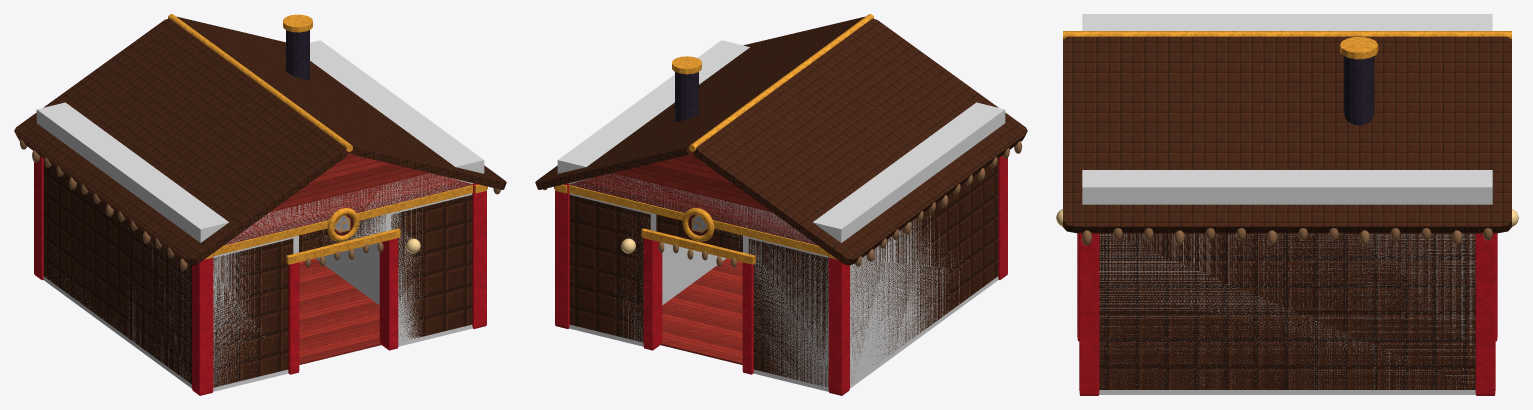
File: CHO_Shed.fbx
3 renders of one model, left to right at view 1: azimuth 30°, elevation 25°; view 2: azimuth 150°, elevation 25°; view 3: azimuth 270°, elevation 25°, orthographic. The views are drawn at different scales.
Parts seen in each view (by area): view 1: CHO_Shed, COL_Roof, COL_WallFrontL, COL_WallFrontR, COL_Crates, COL_WallSideL, COL_LintelFront; view 2: CHO_Shed, COL_Roof, COL_WallSideL, COL_WallBackL, COL_Crates, COL_WallBackR; view 3: CHO_Shed, COL_Roof, COL_WallSideR.
Boxes of the visible parts, x1,y1,x2,y2 form: CHO_Shed: [14, 14, 506, 395]; COL_Roof: [36, 40, 484, 244]; COL_WallFrontL: [213, 236, 296, 391]; COL_WallFrontR: [388, 193, 472, 346]; COL_Crates: [315, 243, 379, 304]; COL_WallSideL: [43, 231, 191, 388]; COL_LintelFront: [296, 213, 388, 252]; CHO_Shed: [535, 14, 1027, 395]; COL_Roof: [557, 40, 1005, 245]; COL_WallSideL: [850, 213, 998, 388]; COL_WallBackL: [745, 236, 828, 391]; COL_Crates: [662, 243, 726, 304]; COL_WallBackR: [569, 193, 653, 346]; CHO_Shed: [1056, 31, 1518, 395]; COL_Roof: [1082, 14, 1492, 204]; COL_WallSideR: [1099, 233, 1475, 394].
Size of the model in its own units: 9.72 by 7.06 by 9.7.
